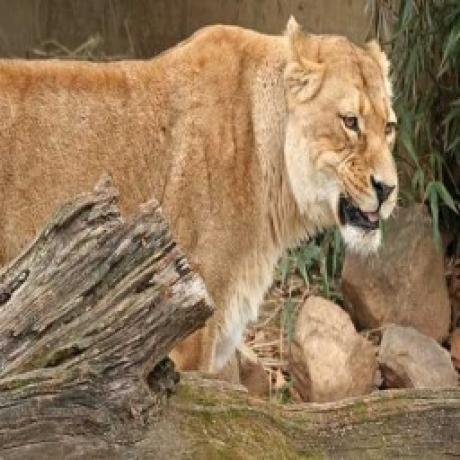Lion: (0, 19, 405, 382)
